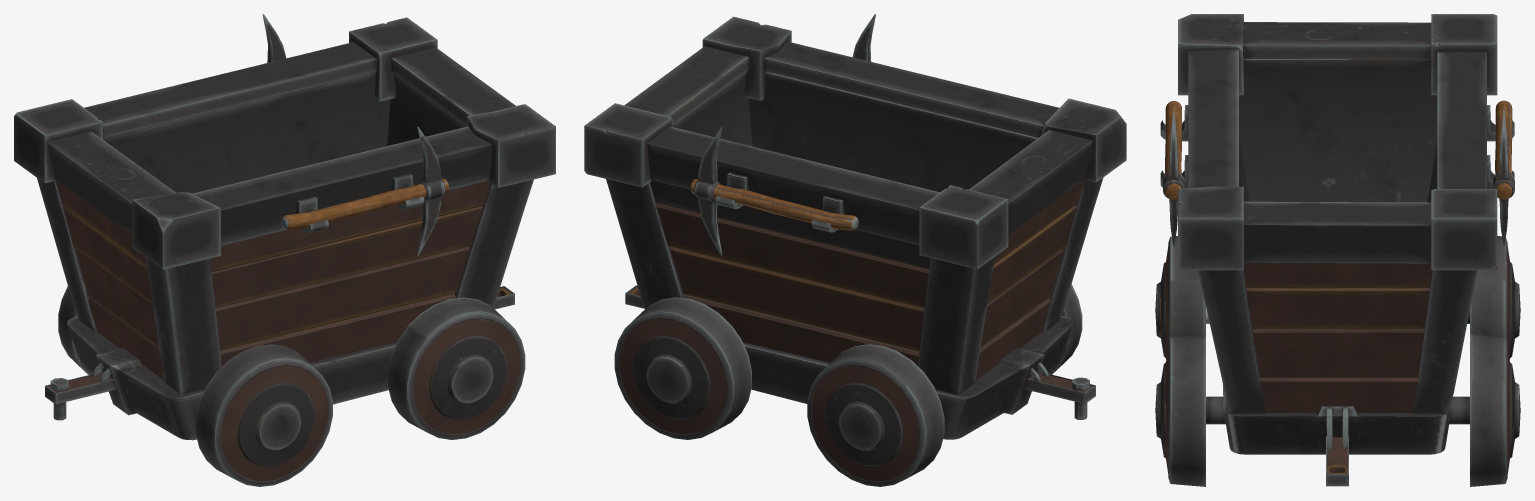
Rendered from SM_Cart_02.glb.
3 renders of one model, left to right at view 1: azimuth 30°, elevation 25°; view 2: azimuth 150°, elevation 25°; view 3: azimuth 270°, elevation 25°, orthographic. The views are drawn at different scales.
Parts seen in each view (by area): view 1: SM_Cart_02; view 2: SM_Cart_02; view 3: SM_Cart_02.
Part boxes in pixels (box(x1,y1,x2,y2)): SM_Cart_02: box(14, 14, 555, 486); SM_Cart_02: box(584, 14, 1126, 486); SM_Cart_02: box(1155, 14, 1520, 486).
Bounding box in the file's own units: 1.93 × 1.3 × 1.24.
1 material, 1 textured.
